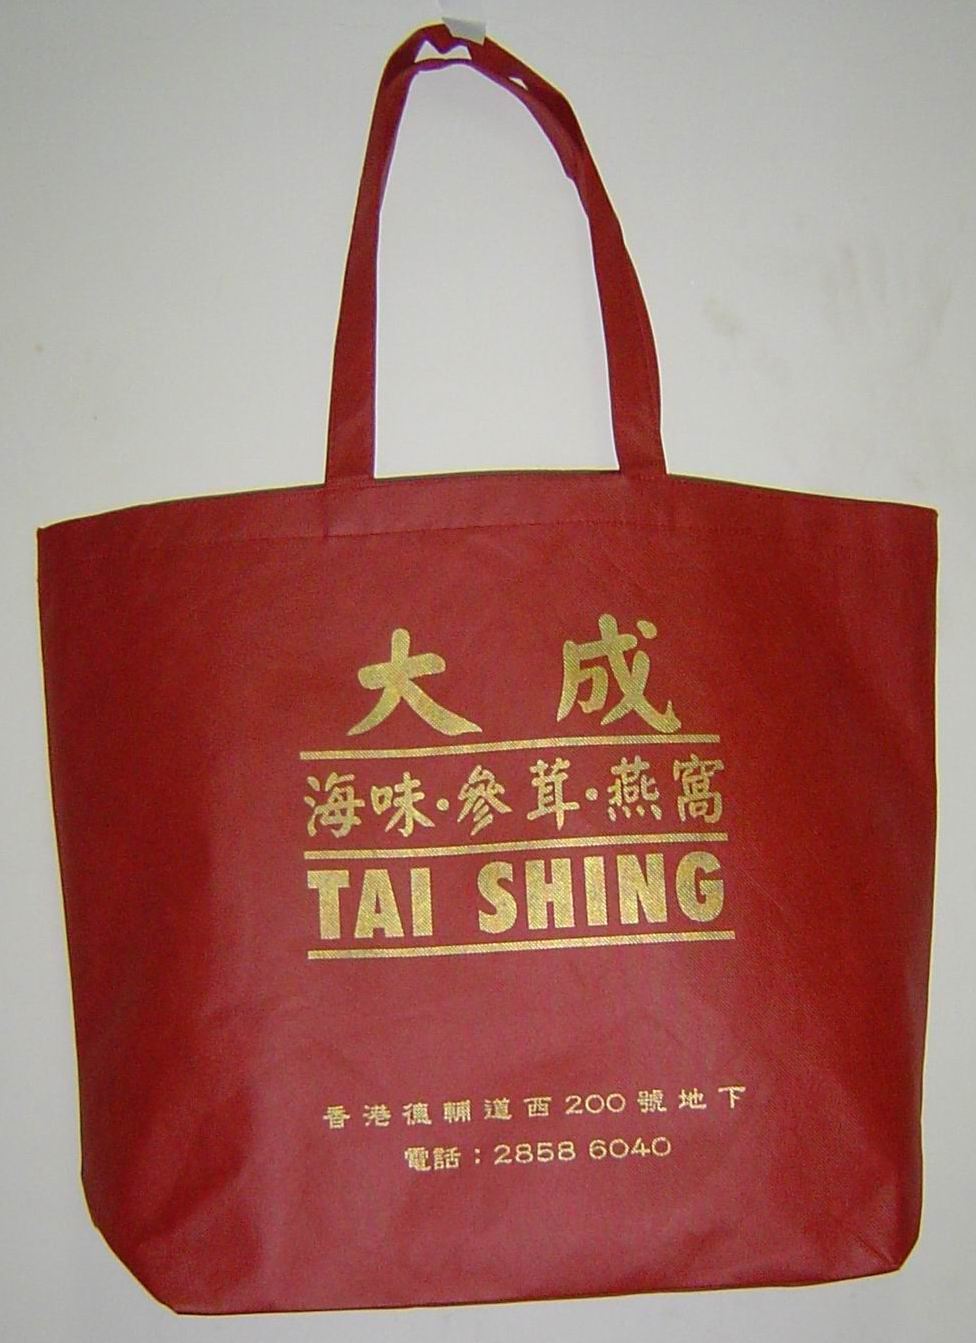flexible: (24, 19, 944, 1317)
